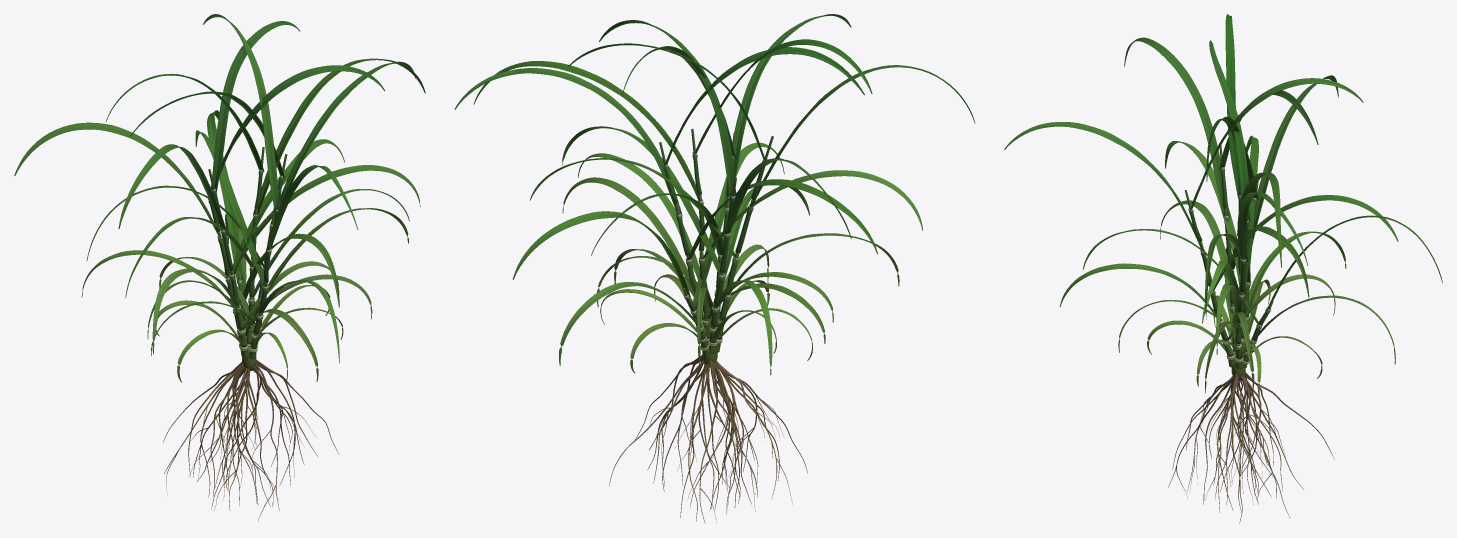
Rendered from rice-tillering.glb.
3 views of the same model, side by side, from view 1: azimuth 30°, elevation 25°; view 2: azimuth 150°, elevation 25°; view 3: azimuth 270°, elevation 25° (orthographic). The views are drawn at different scales.
Visible parts, largest first — view 1: Tiller 4 · Leaf blade 6, Tiller 3 · Leaf blade 6, Tiller 5 · Leaf blade 5, Main culm · Leaf blade 5, Tiller 5 · Leaf blade 6, Tiller 4 · Leaf blade 5, Tiller 2 · Leaf blade 5, Tiller 3 · Leaf blade 4, Tiller 5 · Leaf blade 4, Tiller 4 · Leaf blade 4, Tiller 6 (late) · Leaf blade 5, Tiller 3 · Leaf blade 5 (+12 smaller); view 2: Tiller 2 · Leaf blade 5, Main culm · Leaf blade 5, Tiller 3 · Leaf blade 5, Tiller 5 · Leaf blade 6, Tiller 6 (late) · Leaf blade 5, Tiller 2 · Leaf blade 6, Tiller 2 · Leaf blade 3, Tiller 2 · Leaf blade 4, Main culm · Leaf blade 4, Tiller 5 · Leaf blade 4, Main culm · Leaf blade 3, Tiller 6 (late) · Leaf blade 4 (+9 smaller); view 3: Tiller 4 · Leaf blade 5, Tiller 2 · Leaf blade 6, Main culm · Leaf blade 6, Tiller 3 · Leaf blade 5, Tiller 5 · Leaf blade 5, Tiller 3 · Leaf blade 6, Tiller 3 · Leaf blade 4, Tiller 2 · Leaf blade 5, Main culm · Leaf blade 4, Tiller 3 · Leaf blade 3, Main culm · Leaf blade 5, Tiller 2 · Leaf blade 4 (+9 smaller).
Boxes of the visible parts, x1,y1,x2,y2 form: Tiller 4 · Leaf blade 6: (211, 21, 300, 191); Tiller 3 · Leaf blade 6: (203, 14, 280, 211); Tiller 5 · Leaf blade 5: (14, 122, 221, 239); Main culm · Leaf blade 5: (253, 58, 425, 217); Tiller 5 · Leaf blade 6: (209, 65, 384, 201); Tiller 4 · Leaf blade 5: (118, 144, 226, 231); Tiller 2 · Leaf blade 5: (270, 61, 415, 224); Tiller 3 · Leaf blade 4: (195, 130, 264, 288); Tiller 5 · Leaf blade 4: (229, 165, 420, 280); Tiller 4 · Leaf blade 4: (233, 139, 344, 276); Tiller 6 (late) · Leaf blade 5: (207, 110, 243, 283); Tiller 3 · Leaf blade 5: (266, 165, 358, 251); Tiller 2 · Leaf blade 5: (454, 68, 682, 217); Main culm · Leaf blade 5: (473, 61, 702, 202); Tiller 3 · Leaf blade 5: (723, 14, 851, 208); Tiller 5 · Leaf blade 6: (599, 20, 736, 198); Tiller 6 (late) · Leaf blade 5: (512, 211, 690, 296); Tiller 2 · Leaf blade 6: (663, 47, 864, 167); Tiller 2 · Leaf blade 3: (562, 177, 694, 293); Tiller 2 · Leaf blade 4: (686, 179, 877, 261); Main culm · Leaf blade 4: (701, 170, 922, 260); Tiller 5 · Leaf blade 4: (562, 126, 720, 276); Main culm · Leaf blade 3: (577, 153, 699, 279); Tiller 6 (late) · Leaf blade 4: (692, 142, 784, 312); Tiller 4 · Leaf blade 5: (1124, 37, 1229, 217); Tiller 2 · Leaf blade 6: (1209, 40, 1250, 221); Main culm · Leaf blade 6: (1225, 14, 1239, 197); Tiller 3 · Leaf blade 5: (1004, 122, 1204, 253); Tiller 5 · Leaf blade 5: (1252, 75, 1338, 241); Tiller 3 · Leaf blade 6: (1190, 78, 1363, 211); Tiller 3 · Leaf blade 4: (1212, 195, 1398, 293); Tiller 2 · Leaf blade 5: (1237, 192, 1308, 265); Main culm · Leaf blade 4: (1165, 141, 1239, 284); Tiller 3 · Leaf blade 3: (1059, 263, 1221, 323); Main culm · Leaf blade 5: (1237, 172, 1281, 267); Tiller 2 · Leaf blade 4: (1239, 135, 1258, 296).
Bounding box in the file's own units: 0.5959 × 0.6639 × 0.5935.
